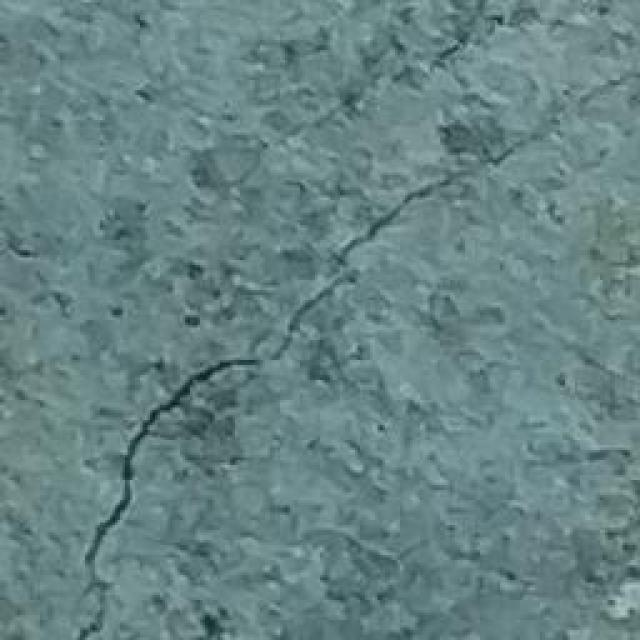Diagonal: (58, 10, 640, 640)
